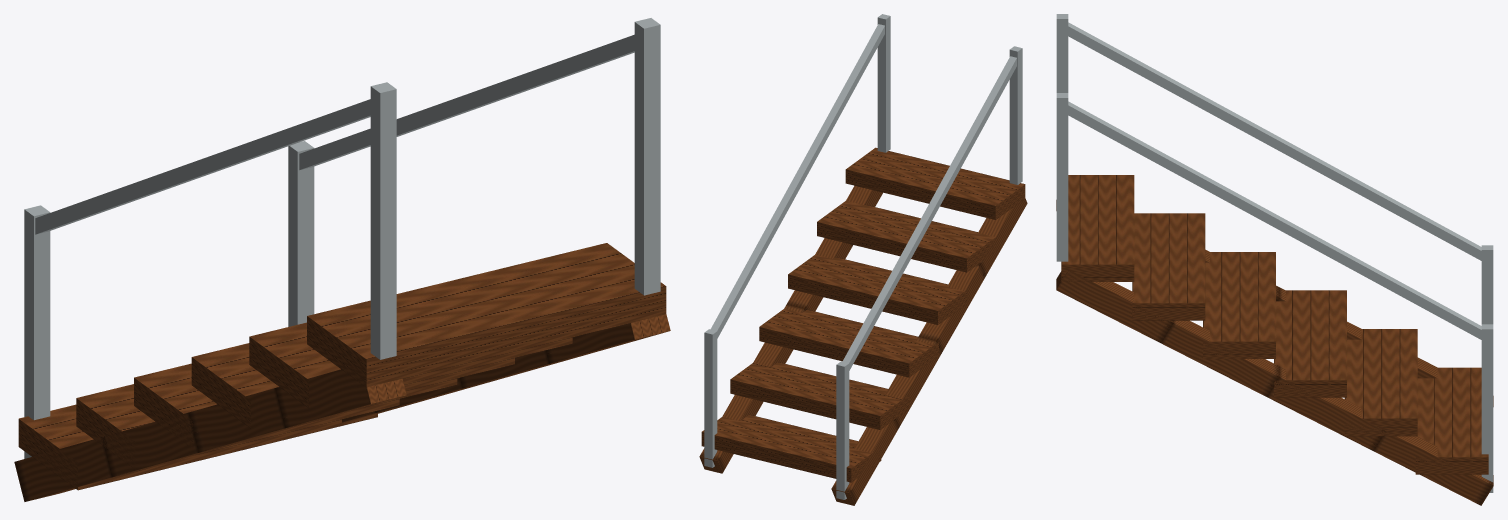
File: modular-survival-base-builder-straight-stair-flight-f191efe6__24187.glb
3 views of the same model, side by side, from view 1: azimuth 30°, elevation 25°; view 2: azimuth 150°, elevation 25°; view 3: azimuth 270°, elevation 25° (orthographic). The views are drawn at different scales.
Parts seen in each view (by area): view 1: straight-stair-flight; view 2: straight-stair-flight; view 3: straight-stair-flight.
Boxes of the visible parts, x1,y1,x2,y2 form: straight-stair-flight: (14,18,670,501); straight-stair-flight: (699,14,1027,505); straight-stair-flight: (1056,14,1493,505).
Bounding box in the file's own units: 1 × 2.1 × 2.06.
Materials: 2 (1 with a texture image).
